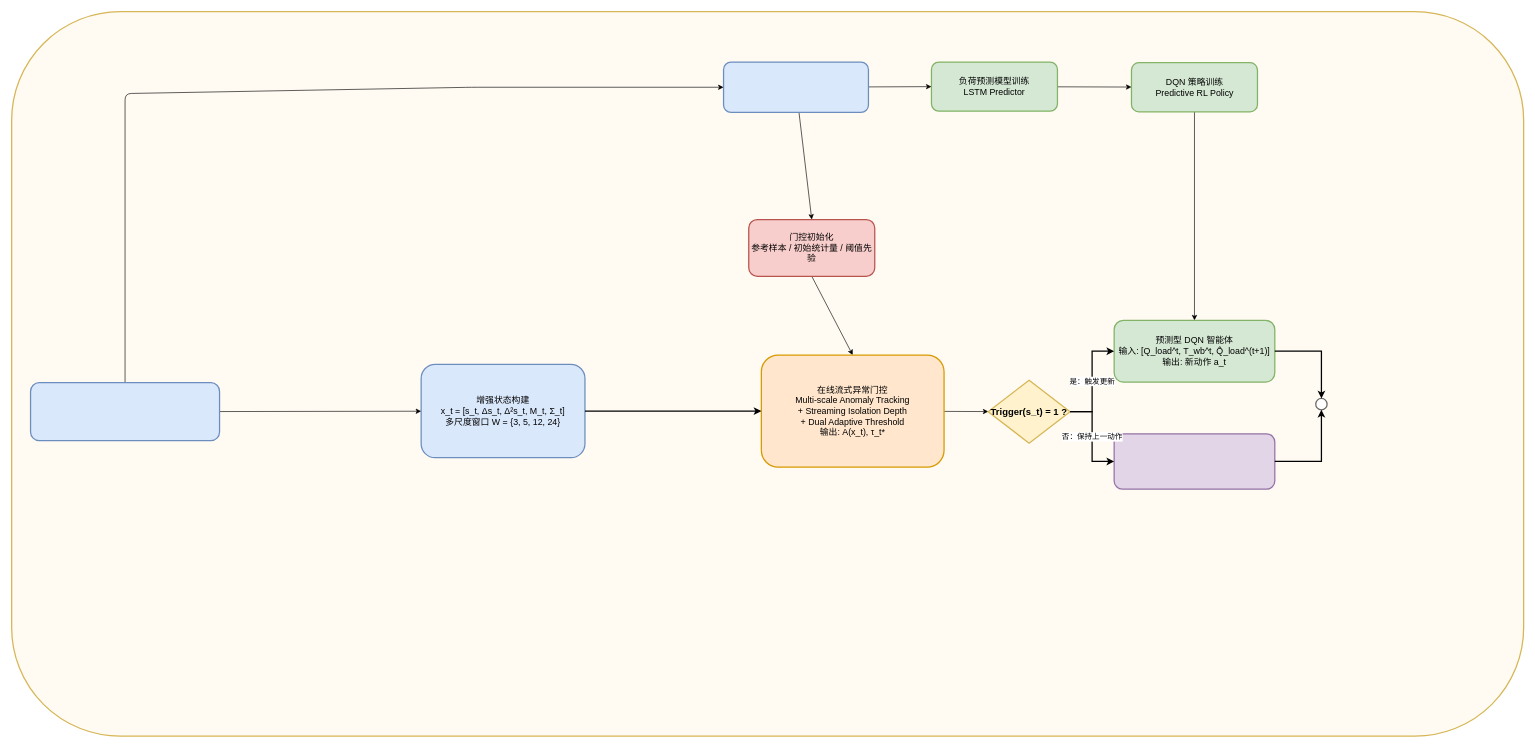
Image size: 1535x747. Some labels were removed from this diagram. The centre of each missing label's shape, as x and y in pixels:
HVAC 环境 系统响应: 功率 / 温度 / 奖励 / 下一时刻状态: (x=125, y=411)
历史运行数据 负荷 / 温度 / 功率 / 动作序列: (x=796, y=87)
零阶保持 ZOH 未触发时保持上一动作 a_(t-1): (x=1194, y=461)
